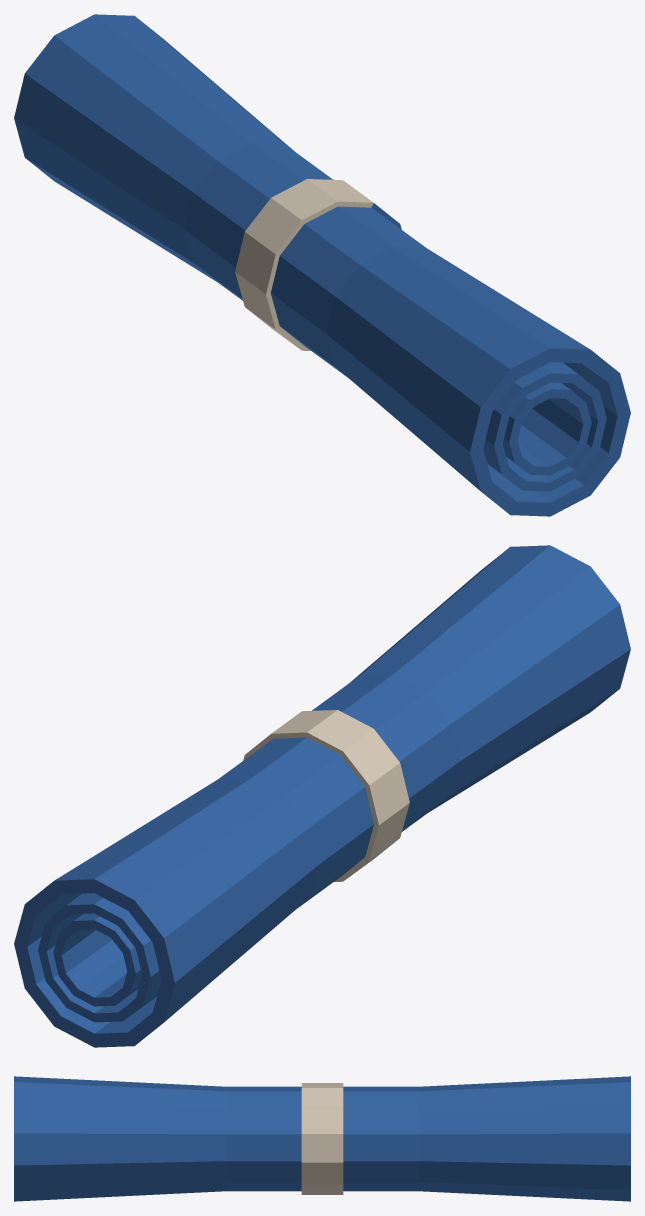
Rendered from rolledbp_ud.fbx.
The picture shows the model from 3 angles, top to bottom: view 1: azimuth 30°, elevation 25°; view 2: azimuth 150°, elevation 25°; view 3: azimuth 270°, elevation 25°; orthographic projection. The views are drawn at different scales.
Parts seen in each view (by area): view 1: Cylinder; view 2: Cylinder; view 3: Cylinder.
Boxes of the visible parts, x1,y1,x2,y2 form: Cylinder: [14, 14, 630, 516]; Cylinder: [14, 545, 630, 1047]; Cylinder: [14, 1076, 630, 1201].
Size of the model in its own units: 117 by 117 by 575.
